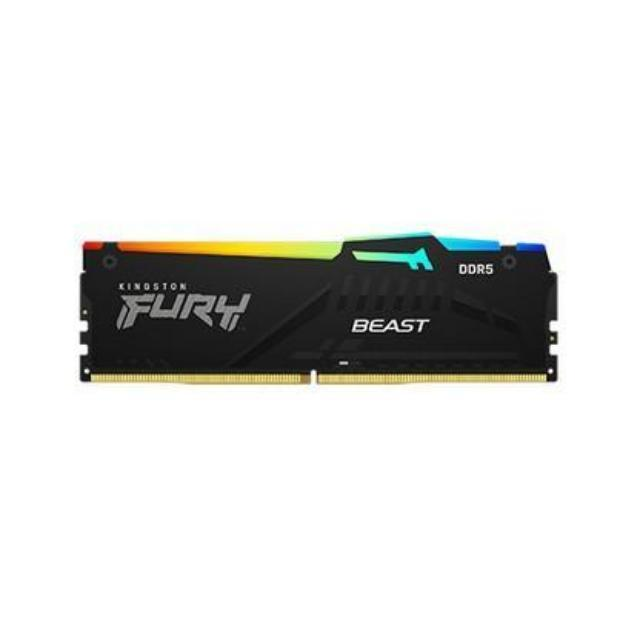RAM: (74, 230, 566, 388)
